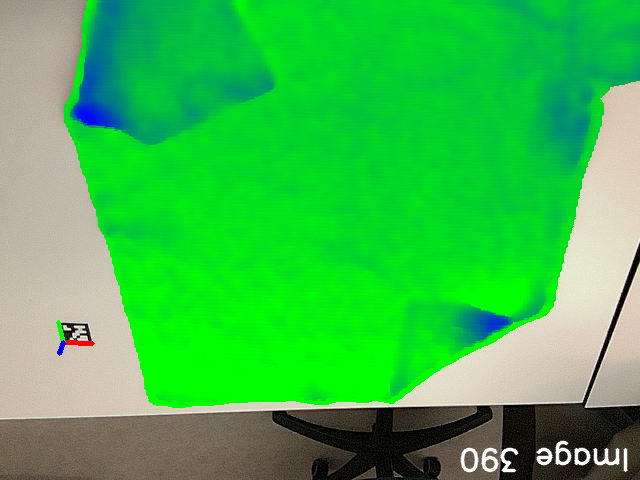V: (235, 55, 290, 106), (123, 118, 181, 156), (397, 282, 447, 326)
